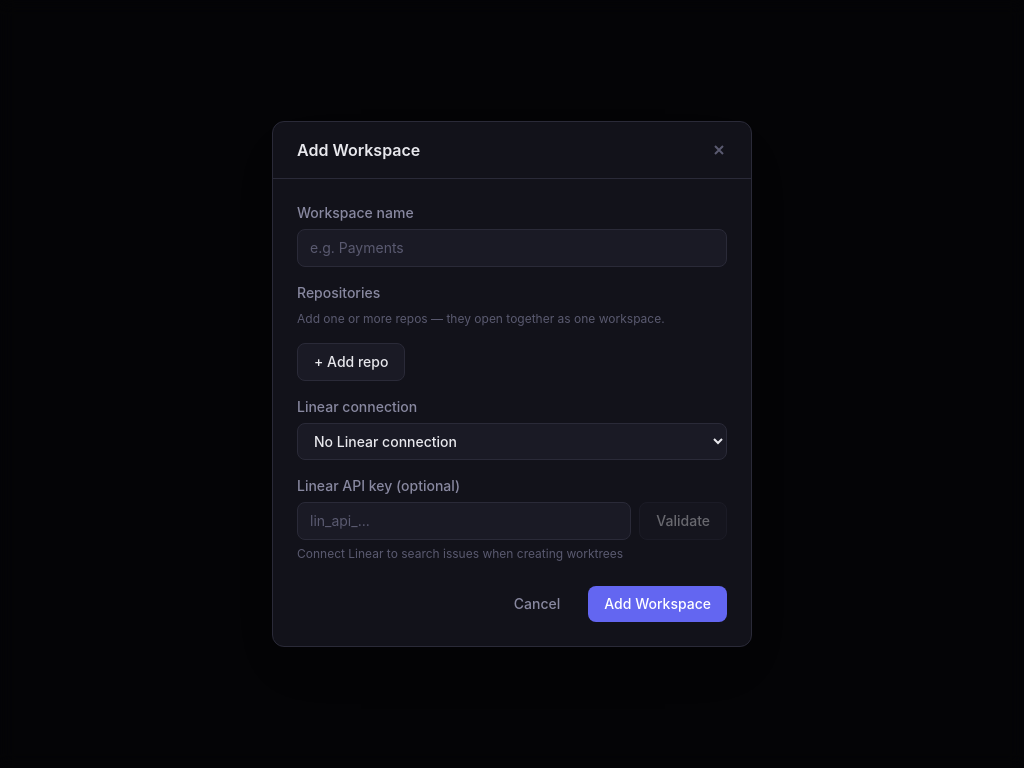
Scenario: AddWorkspaceModal name suggestion › stops suggesting once a second repo is added
Click the button "+ Add repo": click(351, 362) x1=297 y1=343 x2=405 y2=381
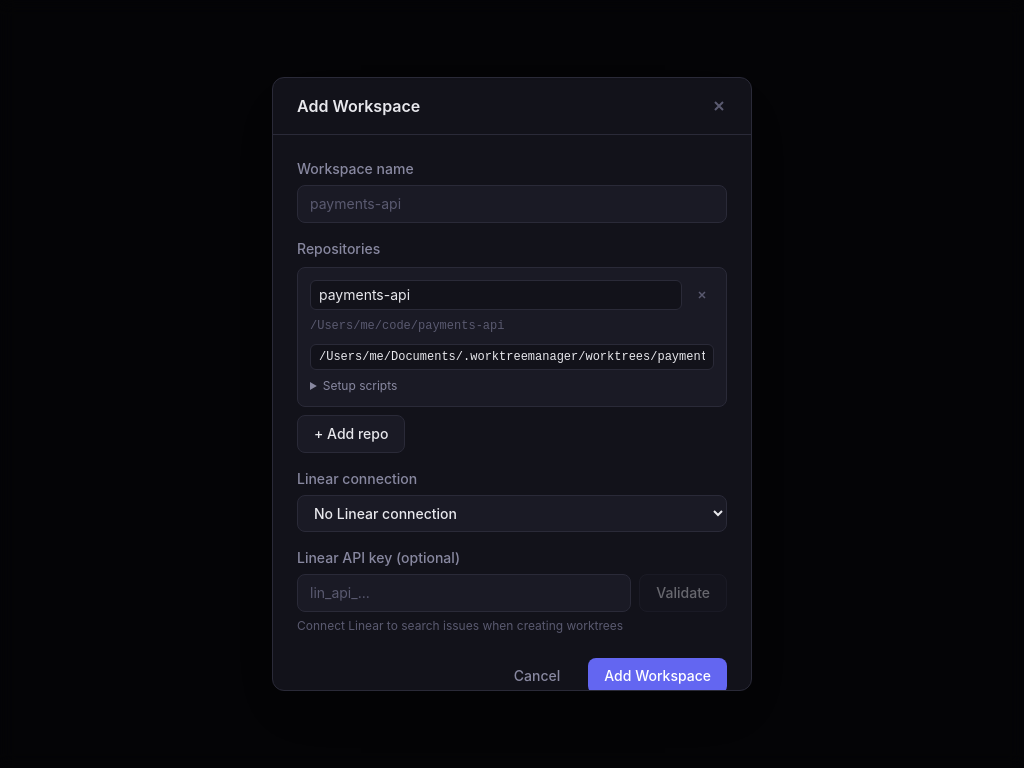
Check: the field with placeholder "payments-api" is shown, box x1=297 y1=185 x2=727 y2=223
Click the button "+ Add repo": click(351, 434) x1=297 y1=415 x2=405 y2=453
(page scrolled)
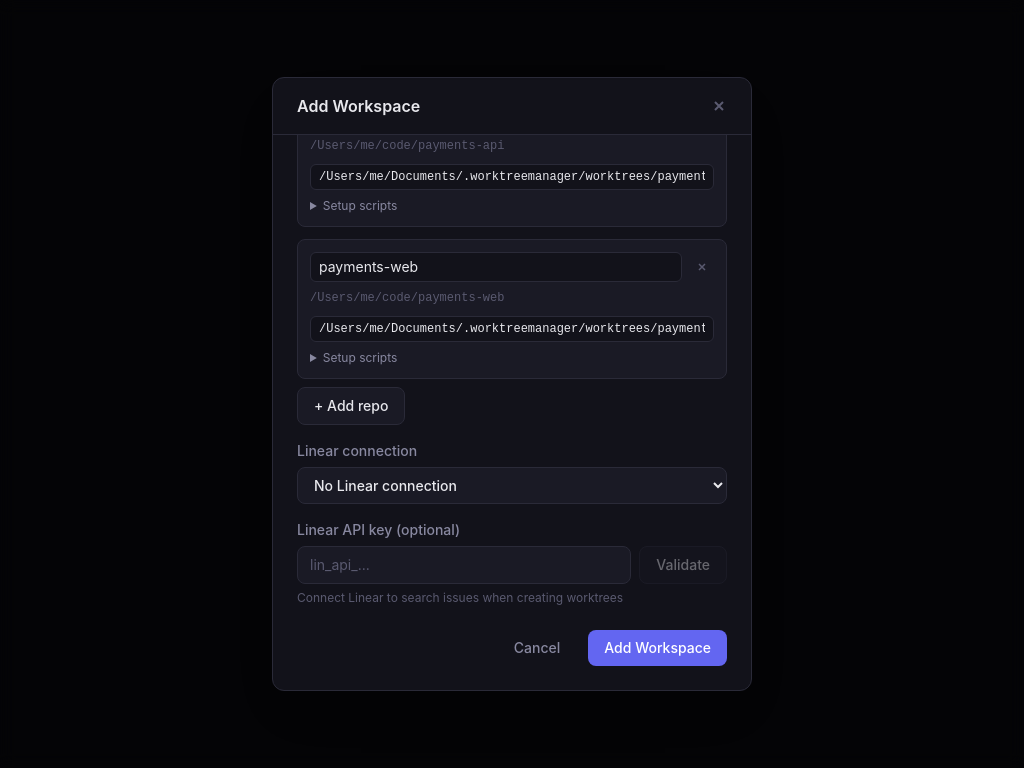
Click the button "Add Workspace": click(658, 648) x1=588 y1=630 x2=727 y2=666
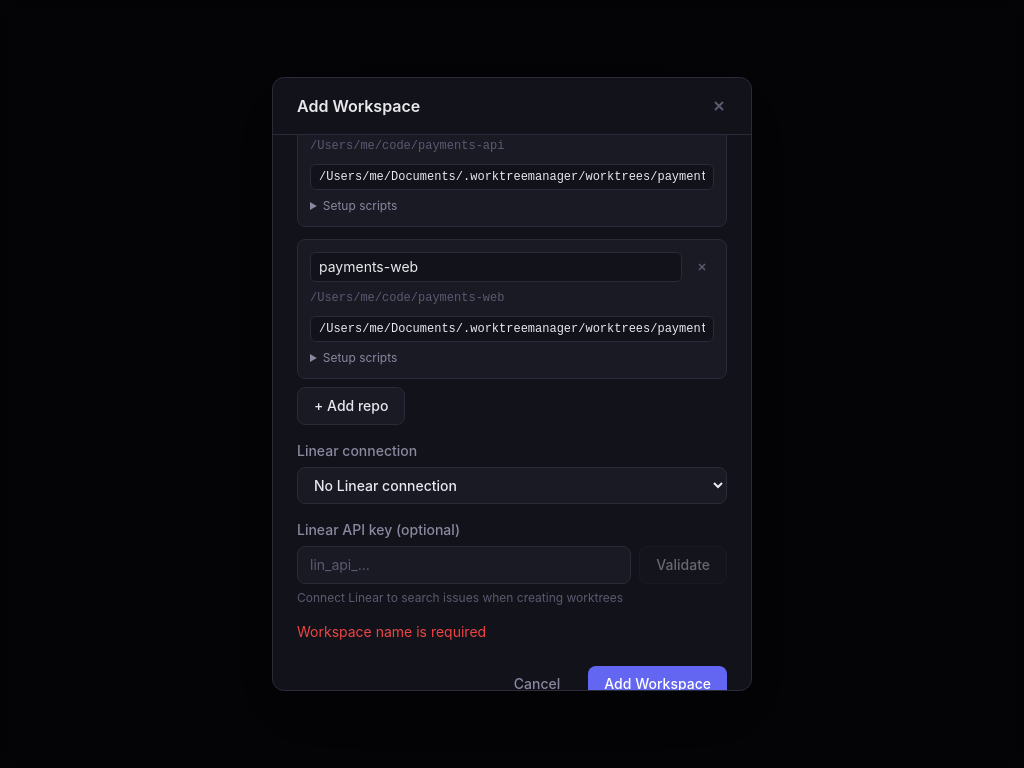
Check: the text "Workspace name is required" is shown, box x1=297 y1=623 x2=486 y2=640
